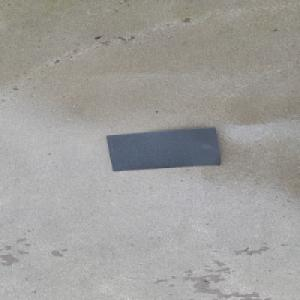PaintChip: (105, 126, 221, 172)
